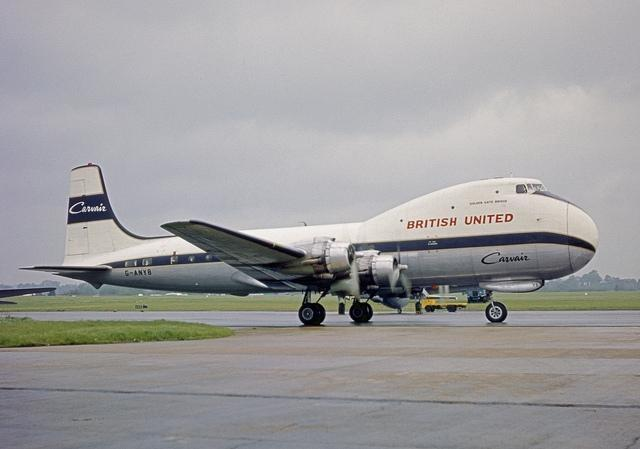truck: (420, 293, 468, 313)
